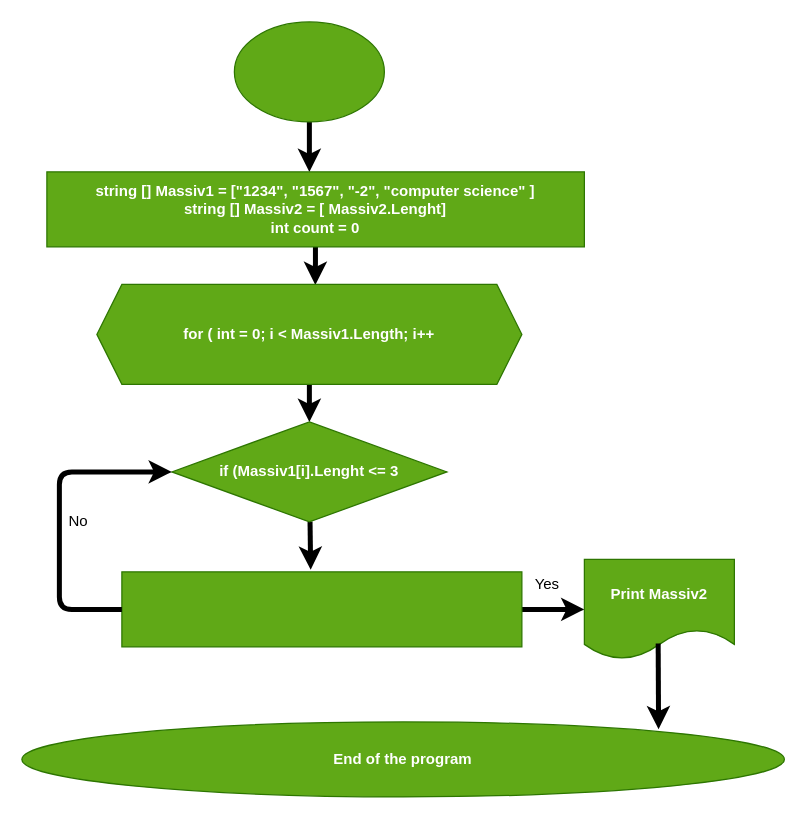
Image size: 806x819. Some labels were removed from this diagram. The shapes that lost their labels are listed below. From the top down, each one's centre as x and y in pixels, then its label:
the point at 308,71: Start
the point at 321,609: Massiv2[count] = Massiv1[1] count ++
